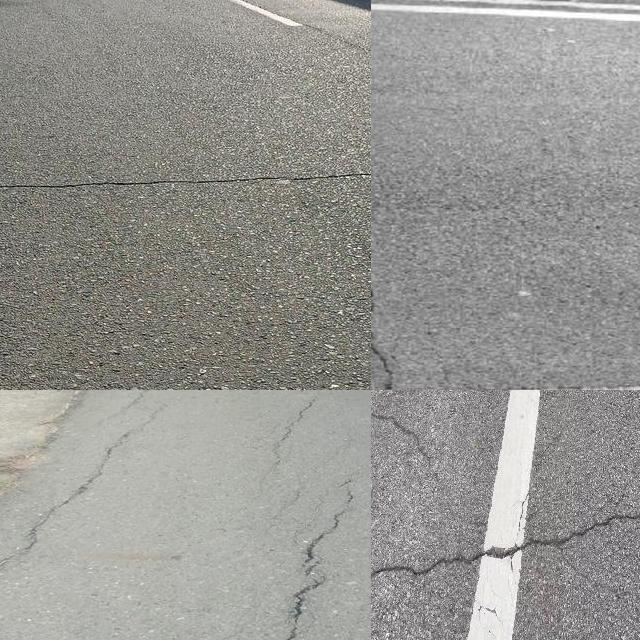Melintang: (371, 501, 640, 597), (0, 162, 371, 205)
Memanjang: (262, 487, 363, 640), (371, 145, 407, 390)
